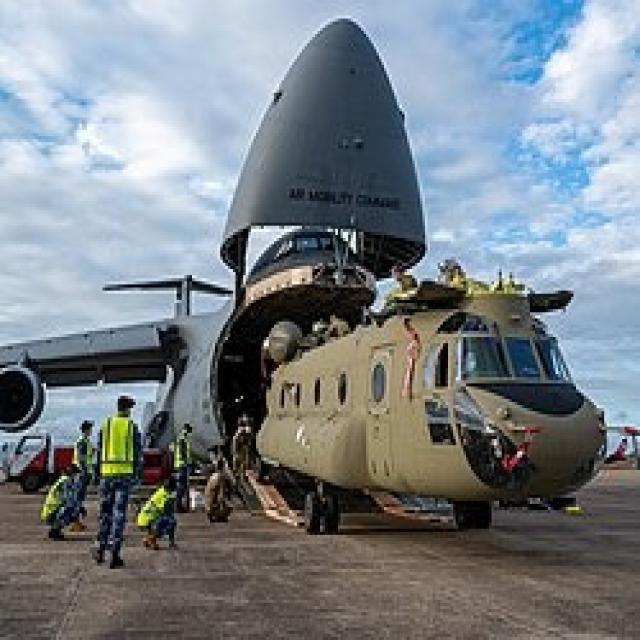C5: (0, 5, 640, 570)
